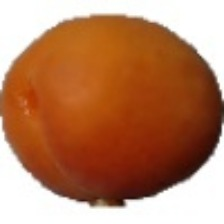apricot: (52, 6, 209, 201)
